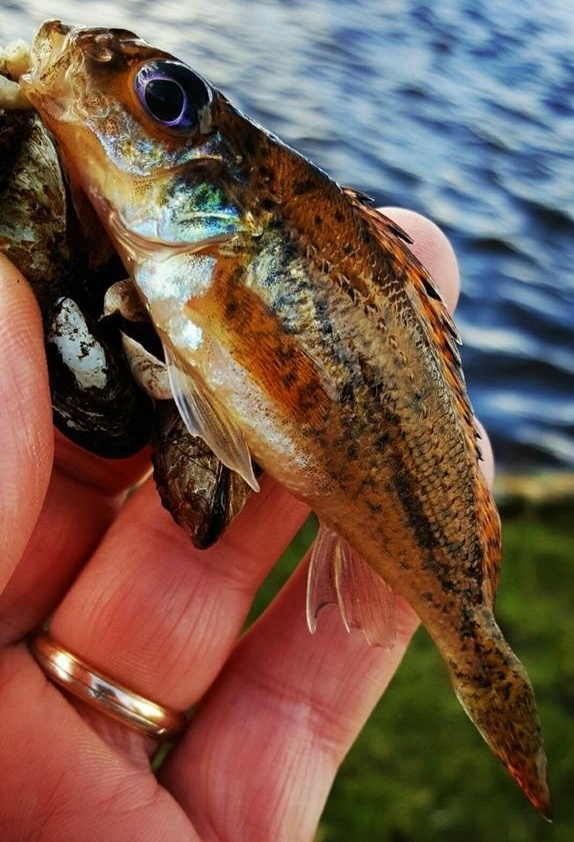Gymnocephalus cernuus: (20, 20, 554, 822)
